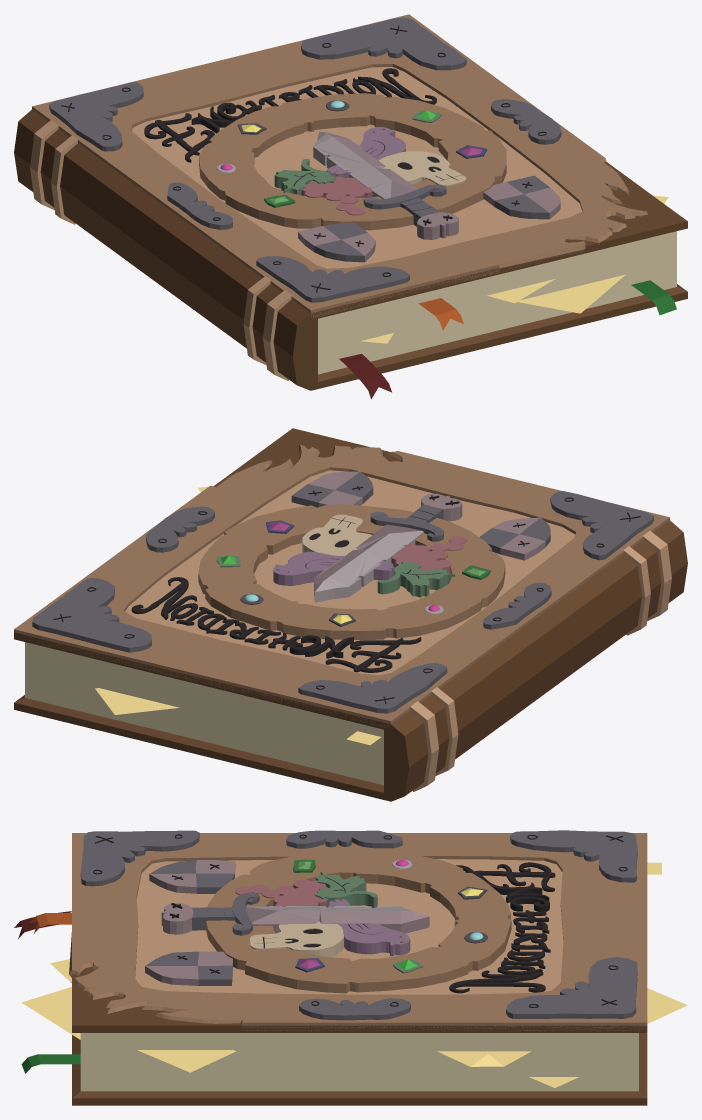
Rendered from libraso.glb.
The picture shows the model from 3 angles, top to bottom: view 1: azimuth 30°, elevation 25°; view 2: azimuth 150°, elevation 25°; view 3: azimuth 270°, elevation 25°; orthographic projection. The views are drawn at different scales.
Visible parts, largest first — view 1: Cube, Cube.001, Plane.006, Cylinder, Plane.015, Plane, Plane.018, Plane.011, Plane.008, Plane.016, Plane.010, Plane.017 (+5 smaller); view 2: Cube, Cube.001, Plane.006, Cylinder, Plane.015, Plane, Plane.010, Plane.011, Plane.017, Plane.008, Plane.018, Plane.016 (+2 smaller); view 3: Cube, Cube.001, Plane.006, Cylinder, Plane.015, Plane.018, Plane, Plane.011, Plane.010, Plane.008, Plane.017, Plane.016 (+5 smaller).
Boxes of the visible parts, x1,y1,x2,y2 form: Cube: (14,67,687,390); Cube.001: (32,14,647,318); Plane.006: (49,17,561,302); Cylinder: (199,93,506,230); Plane.015: (144,68,436,162); Plane: (313,131,417,199); Plane.018: (360,195,668,343); Plane.011: (379,151,466,186); Plane.008: (216,100,486,207); Plane.016: (301,176,372,204); Plane.010: (326,127,405,178); Plane.017: (274,158,336,195); Cube: (14,428,687,801); Cube.001: (14,444,669,727); Plane.006: (32,471,653,713); Cylinder: (198,504,505,640); Plane.015: (131,577,421,672); Plane: (314,524,423,602); Plane.010: (273,551,394,585); Plane.011: (302,514,371,555); Plane.017: (377,560,455,597); Plane.008: (216,520,490,626); Plane.018: (95,486,381,745); Plane.016: (391,543,451,573); Cube: (72,859,647,1105); Cube.001: (69,833,647,1031); Plane.006: (80,830,637,1020); Cylinder: (206,851,511,993); Plane.015: (449,862,555,993); Plane.018: (21,862,687,1087); Plane: (245,906,429,933); Plane.011: (250,921,343,957); Plane.010: (328,899,410,956); Plane.008: (293,859,487,973); Plane.017: (314,871,377,907); Plane.016: (261,879,328,907).
Bounding box in the file's own units: 1.34 × 0.2846 × 1.73.
